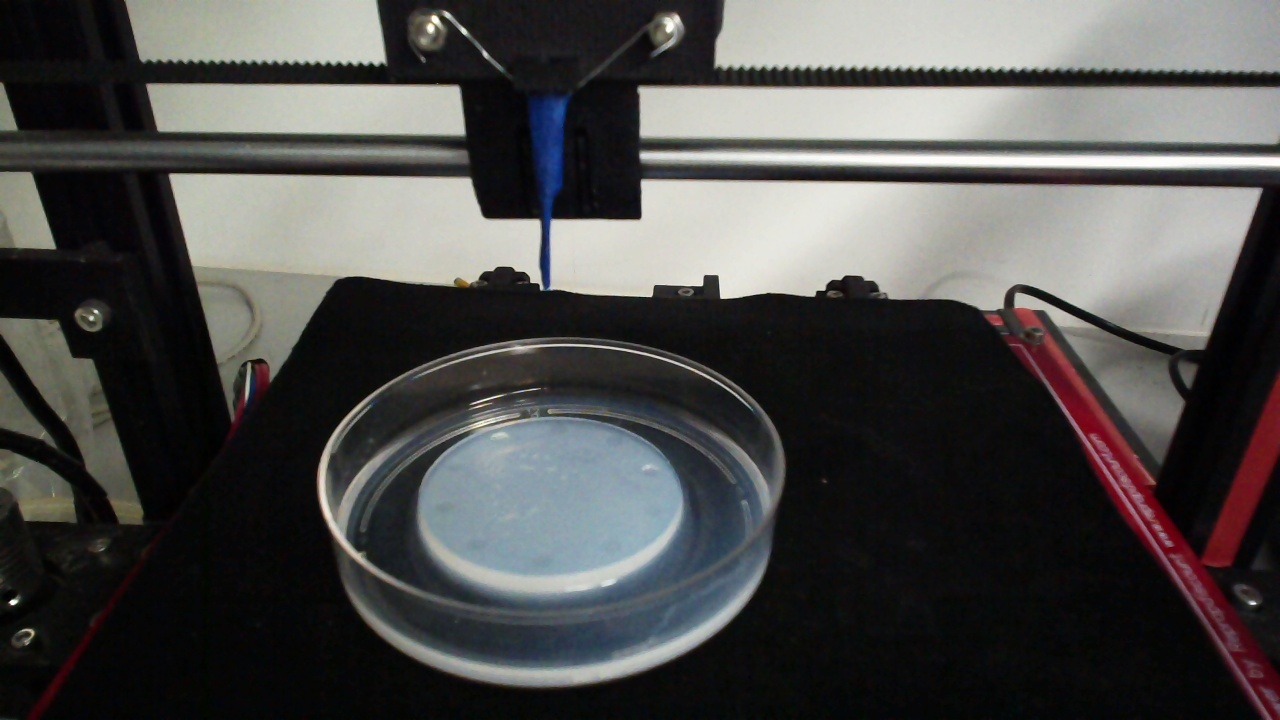groove: (600, 537, 625, 555), (641, 500, 666, 518), (529, 553, 555, 569), (546, 421, 570, 437), (464, 537, 489, 552), (489, 430, 513, 445), (602, 433, 624, 449), (639, 463, 661, 478), (444, 457, 465, 472), (433, 500, 457, 513)
needle: (530, 98, 565, 292)
